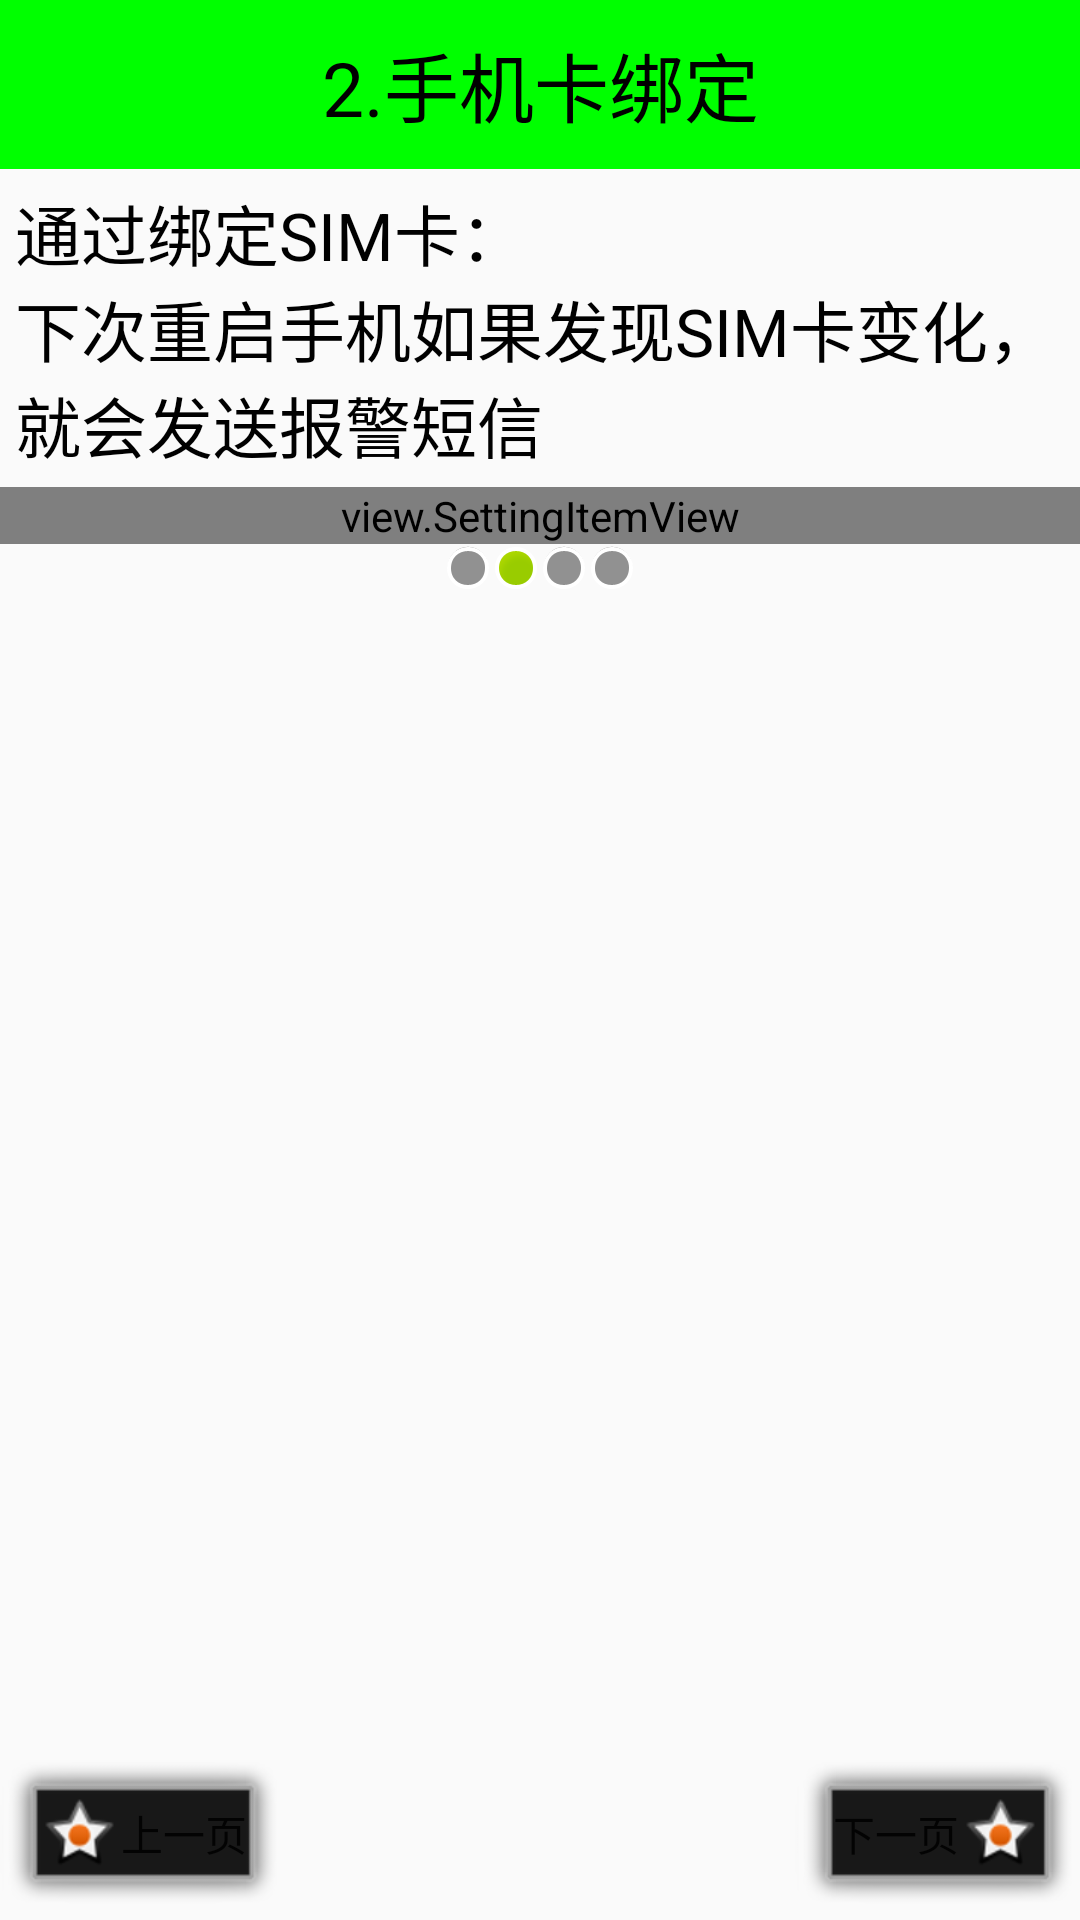

Named icons in this screenshot (1080×1920) and their bounding boxes, (x1, y1, x2, y2):
presence invisible: (451, 547, 485, 585), (547, 547, 581, 585), (595, 547, 629, 585)
presence online: (499, 551, 533, 585)
